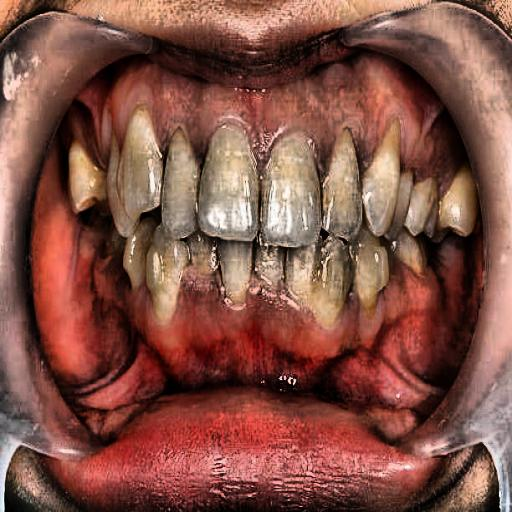Gingivitis: (104, 277, 275, 396), (293, 74, 472, 184), (298, 297, 475, 397), (68, 78, 274, 151)
